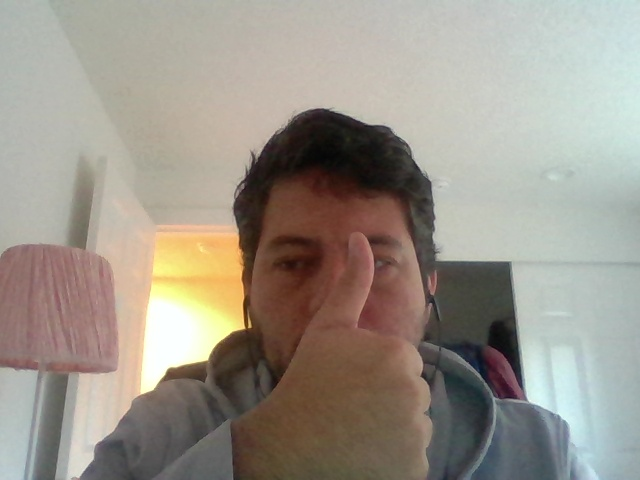ThumbsUp: (283, 226, 437, 480)
